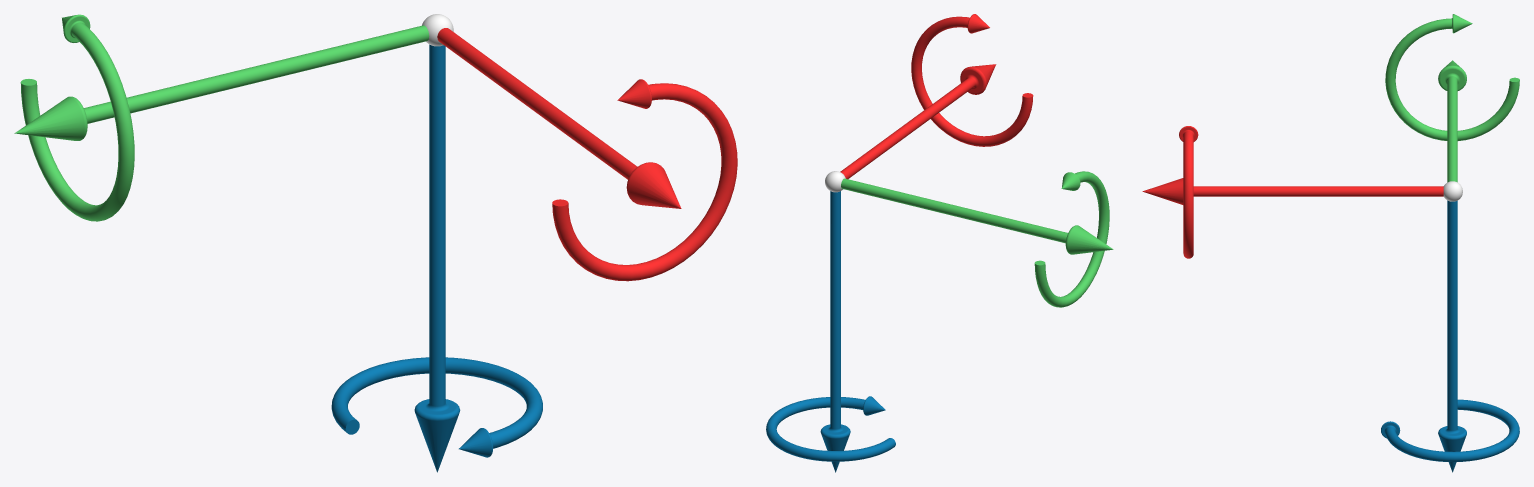
3 renders of one model, left to right at view 1: azimuth 30°, elevation 25°; view 2: azimuth 150°, elevation 25°; view 3: azimuth 270°, elevation 25°, orthographic. The views are drawn at different scales.
Parts seen in each view (by area): view 1: Body_5, Body_3, Body_2, Body_4, Body_1, Body_6; view 2: Body_3, Body_5, Body_2, Body_6, Body_4, Body_1; view 3: Body_1, Body_4, Body_5, Body_6, Body_3, Body_2.
Boxes of the visible parts, x1,y1,x2,y2 form: Body_5: (414,44,460,472); Body_3: (14,25,429,140); Body_2: (552,79,737,281); Body_4: (20,14,134,221); Body_1: (437,28,681,208); Body_6: (331,357,542,457); Body_3: (841,178,1113,254); Body_5: (820,191,850,472); Body_2: (911,14,1033,146); Body_6: (766,396,895,461); Body_4: (1034,171,1109,307); Body_1: (840,64,996,178); Body_1: (1142,178,1443,204); Body_4: (1385,14,1519,140); Body_5: (1438,200,1466,472); Body_6: (1381,399,1519,462); Body_3: (1438,60,1466,182); Body_2: (1179,126,1198,258).
Bounding box in the file's own units: 0.7299 × 0.73 × 0.7387.
